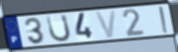2: (121, 8, 146, 38)
3: (24, 16, 44, 46)
4: (75, 11, 97, 42)
I: (157, 5, 170, 34)
U: (45, 14, 72, 44)
V: (93, 9, 117, 39)
